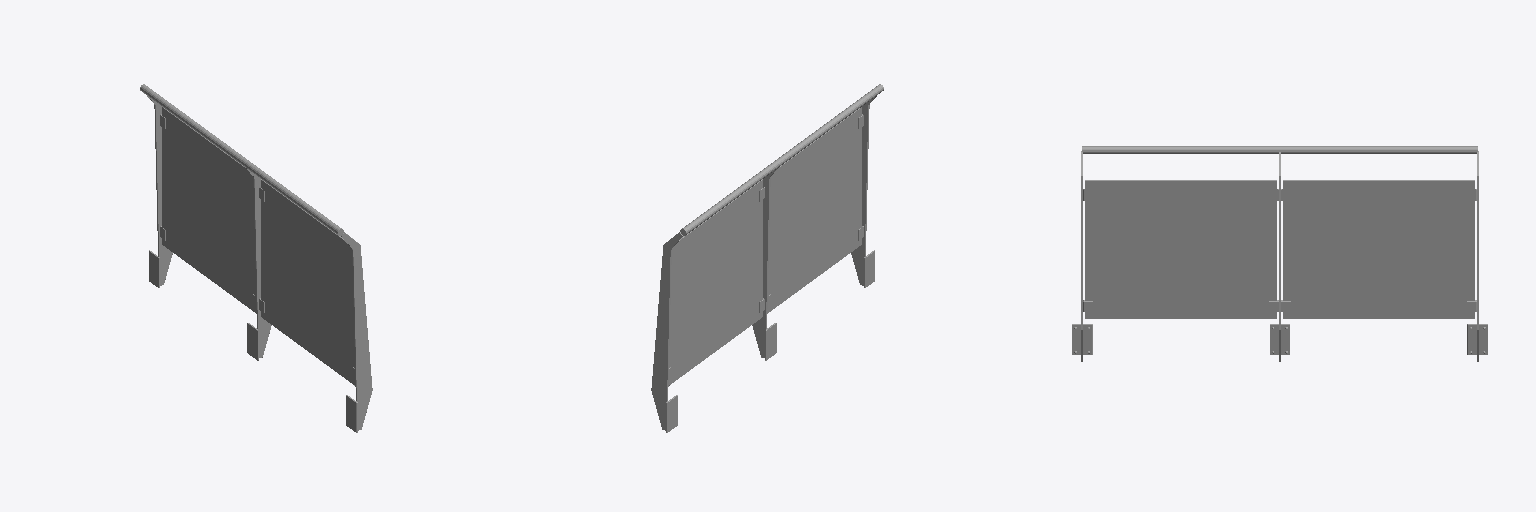
Rendered from fence.obj.
The picture shows the model from 3 angles: view 1: azimuth 30°, elevation 25°; view 2: azimuth 150°, elevation 25°; view 3: azimuth 270°, elevation 25°; orthographic projection.
Visible parts, largest first — view 1: glass_0, steel_1; view 2: glass_0, steel_1; view 3: glass_0, steel_1.
Part boxes in pixels (x1,y1,x2,y2): glass_0: (162, 107, 354, 385); steel_1: (140, 84, 372, 432); glass_0: (669, 107, 861, 385); steel_1: (651, 84, 883, 432); glass_0: (1085, 180, 1474, 318); steel_1: (1072, 146, 1487, 361).
Bounding box in the file's own units: 26.31 × 149 × 273.